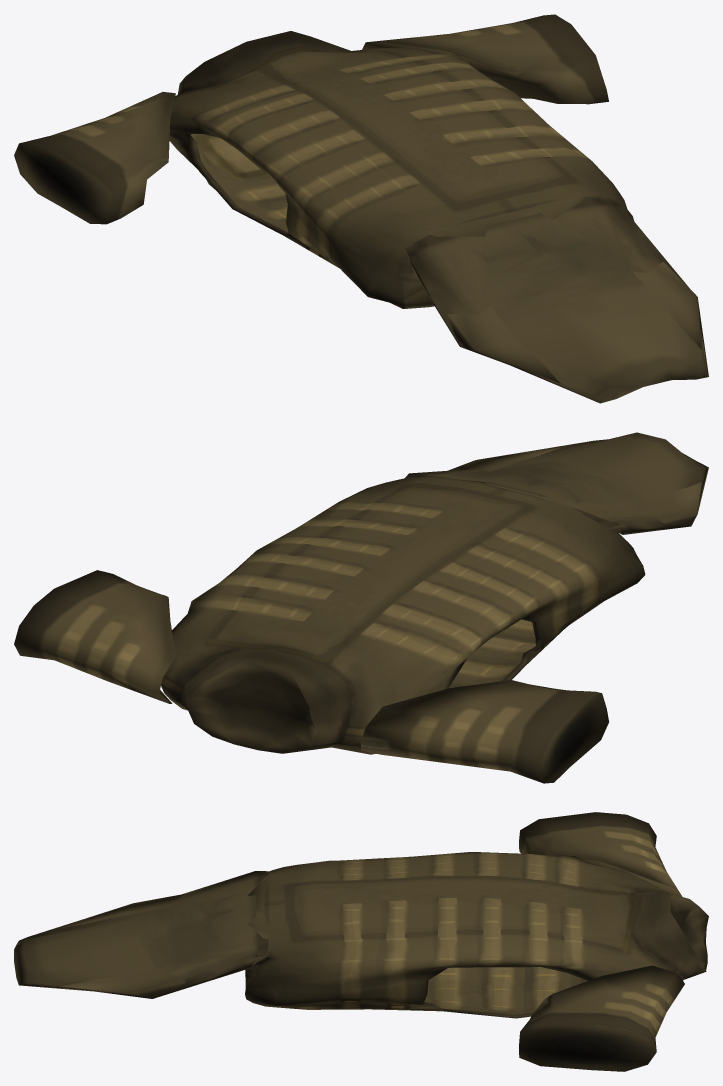
Rendered from Interceptor_WorldItem.fbx.
The picture shows the model from 3 angles, top to bottom: view 1: azimuth 30°, elevation 25°; view 2: azimuth 150°, elevation 25°; view 3: azimuth 270°, elevation 25°; orthographic projection. The views are drawn at different scales.
Parts seen in each view (by area): view 1: INTERCEPTOR; view 2: INTERCEPTOR; view 3: INTERCEPTOR.
Part boxes in pixels (box(x1,y1,x2,y2)): INTERCEPTOR: box(14, 14, 708, 403); INTERCEPTOR: box(14, 432, 708, 783); INTERCEPTOR: box(14, 812, 708, 1071).
Bounding box in the file's own units: 0.4961 × 0.0677 × 0.3654.
